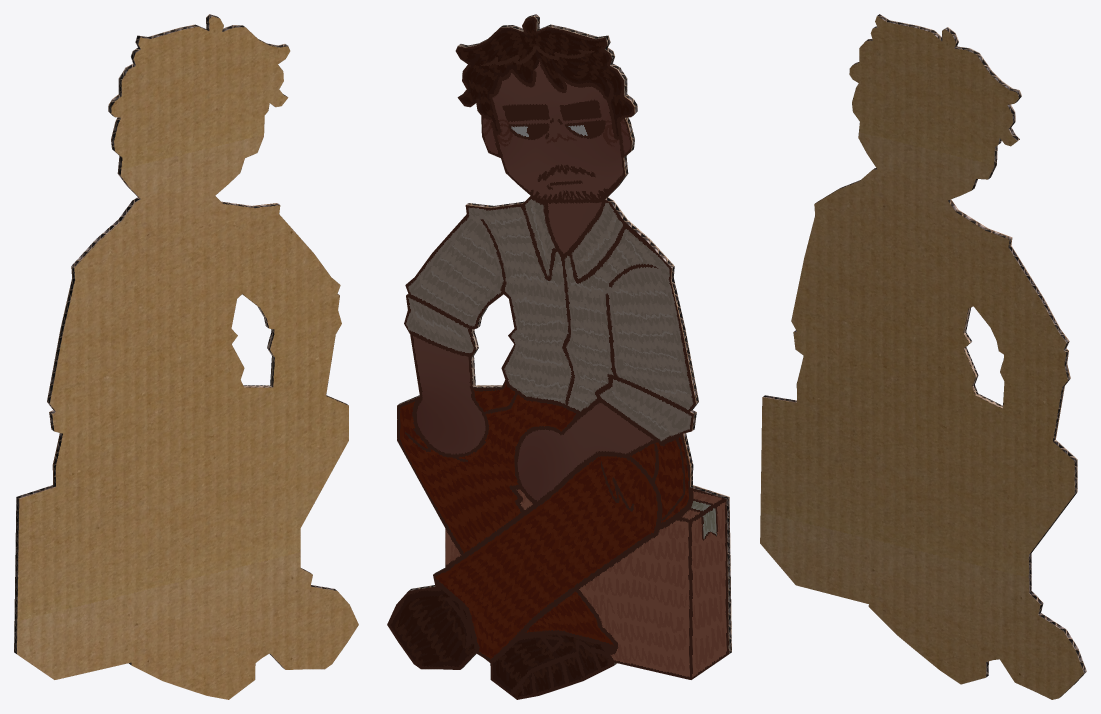
File: VIEJO SENTADO.glb
3 renders of one model, left to right at view 1: azimuth 30°, elevation 25°; view 2: azimuth 150°, elevation 25°; view 3: azimuth 330°, elevation 25°, orthographic. The views are drawn at different scales.
Parts seen in each view (by area): view 1: TIPO SENTADO; view 2: TIPO SENTADO; view 3: TIPO SENTADO.
Boxes of the visible parts, x1,y1,x2,y2 form: TIPO SENTADO: (14, 14, 358, 699); TIPO SENTADO: (387, 14, 731, 699); TIPO SENTADO: (760, 14, 1086, 699).
Size of the model in its own units: 7.14 by 13.72 by 0.106.
1 material, 1 textured.
